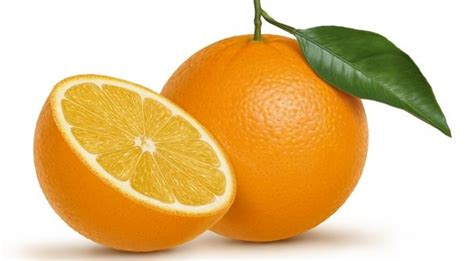orange: (152, 28, 376, 246)
